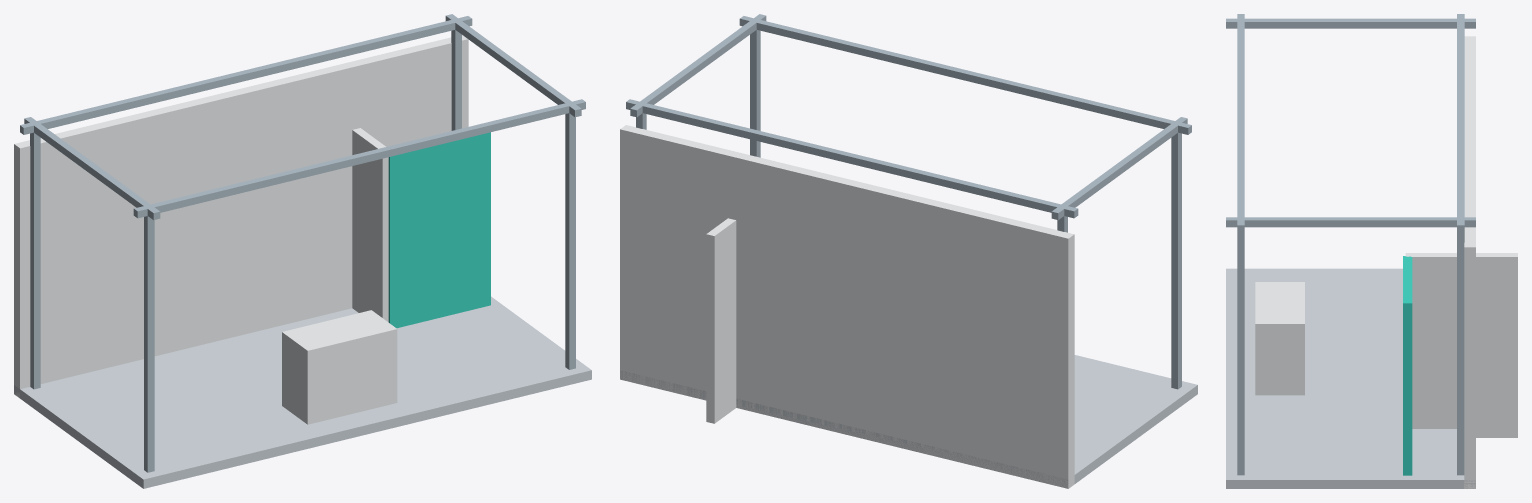
3 renders of one model, left to right at view 1: azimuth 30°, elevation 25°; view 2: azimuth 150°, elevation 25°; view 3: azimuth 270°, elevation 25°, orthographic. The views are drawn at different scales.
Parts seen in each view (by area): view 1: Exhibition Booth Concept; view 2: Exhibition Booth Concept; view 3: Exhibition Booth Concept.
Part boxes in pixels (x1,y1,x2,y2): Exhibition Booth Concept: (14,14,591,488); Exhibition Booth Concept: (620,14,1197,488); Exhibition Booth Concept: (1226,14,1517,488).
Bounding box in the file's own units: 6 × 3.49 × 3.51.
